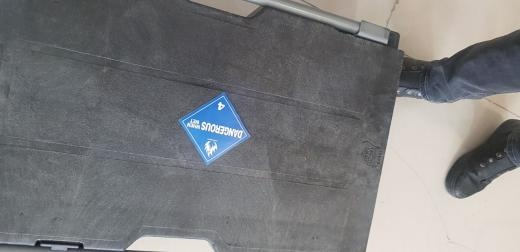Dangerous when wet: (178, 92, 250, 165)
